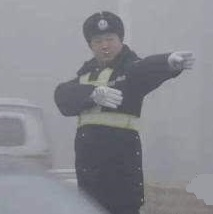person: (47, 10, 196, 211)
